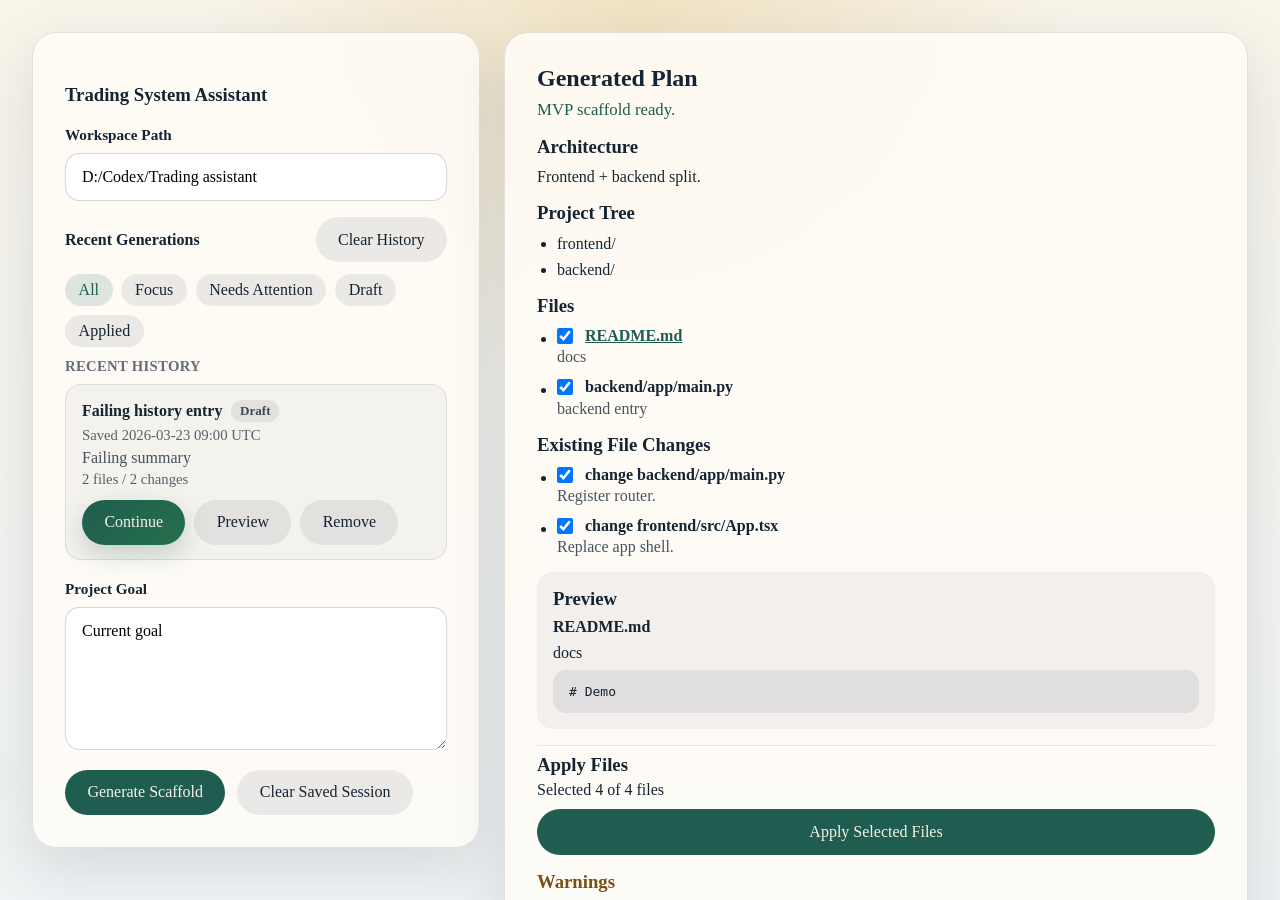
App › keeps the history panel visible when deleting a generation fails
Click the button with aria-label "remove failing history entry".
click(349, 522)  # box [300, 500, 398, 545]
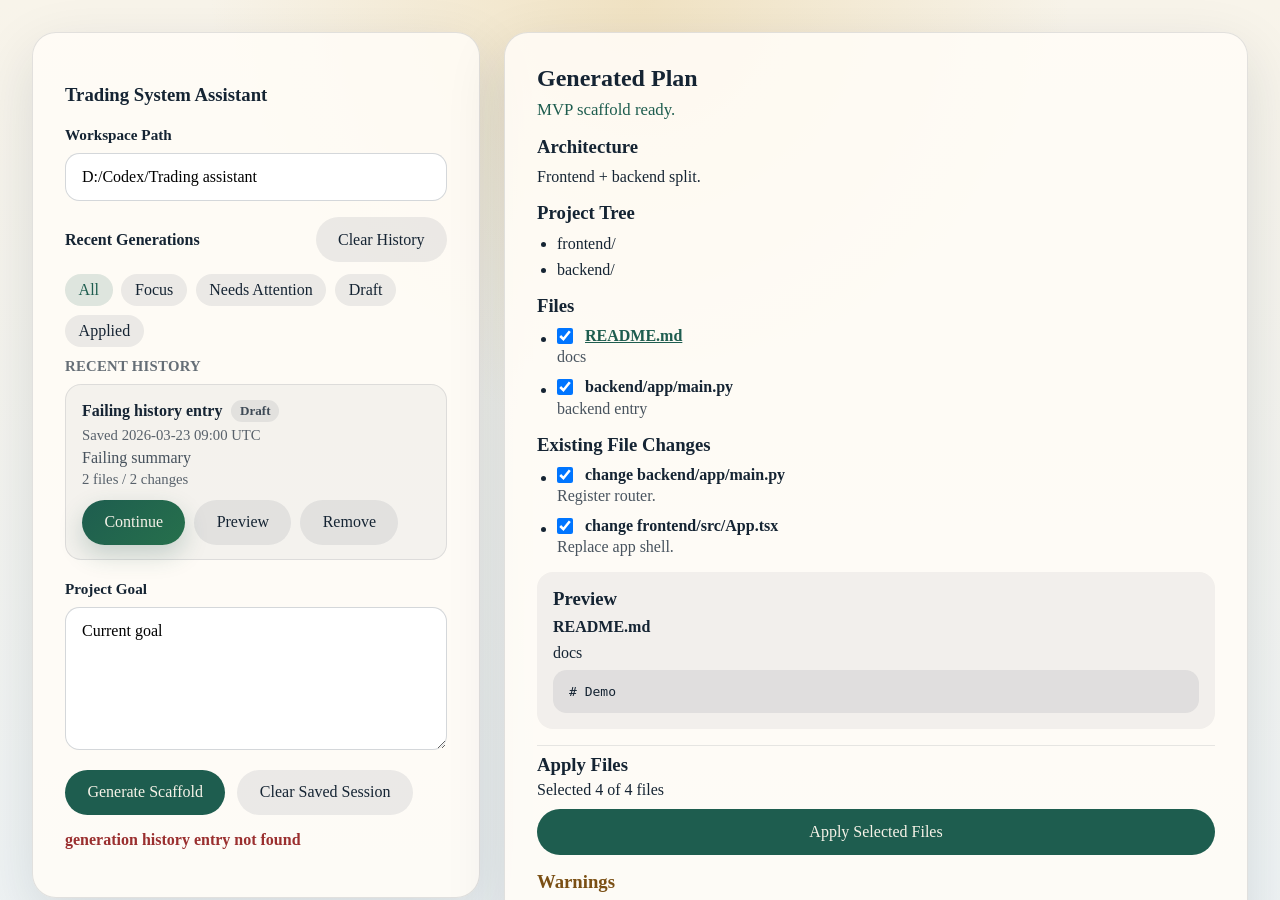
Expected: the element "Recent Generations" is shown, [65, 217, 447, 560]
Now the text "generation history entry not found" is shown, box [65, 831, 301, 848]
